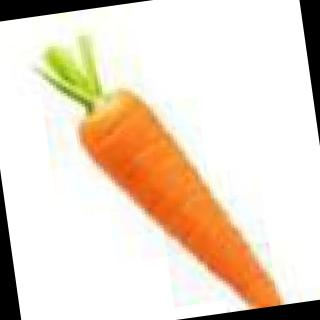Wortel: (4, 1, 320, 320)
